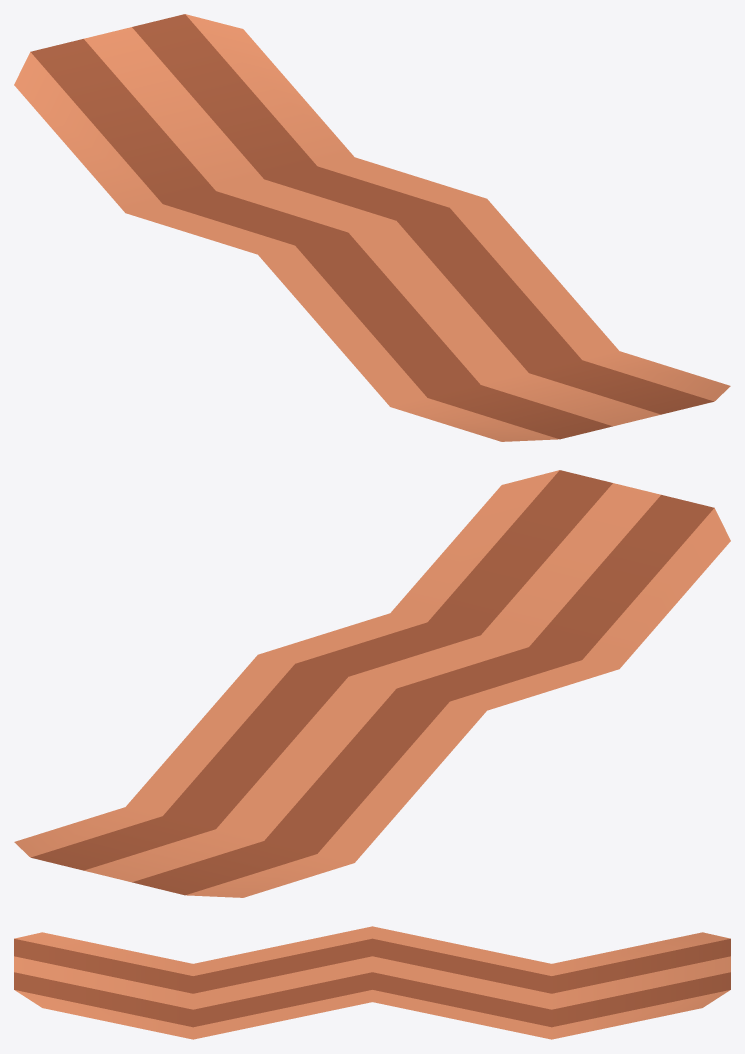
The model's file is bacon.glb.
3 views of the same model, one above another, from view 1: azimuth 30°, elevation 25°; view 2: azimuth 150°, elevation 25°; view 3: azimuth 270°, elevation 25° (orthographic). The views are drawn at different scales.
Parts seen in each view (by area): view 1: bacon; view 2: bacon; view 3: bacon.
Boxes of the visible parts, x1=… form: bacon: x1=14, y1=14, x2=730, y2=441; bacon: x1=14, y1=470, x2=730, y2=897; bacon: x1=14, y1=926, x2=730, y2=1039.
Bounding box in the file's own units: 0.13 × 0.03 × 0.52.
Materials: 1 (1 with a texture image).
